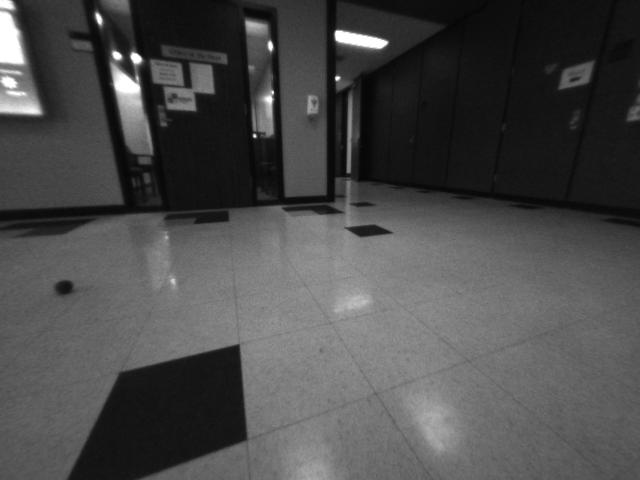dogtoy: (46, 269, 84, 303)
